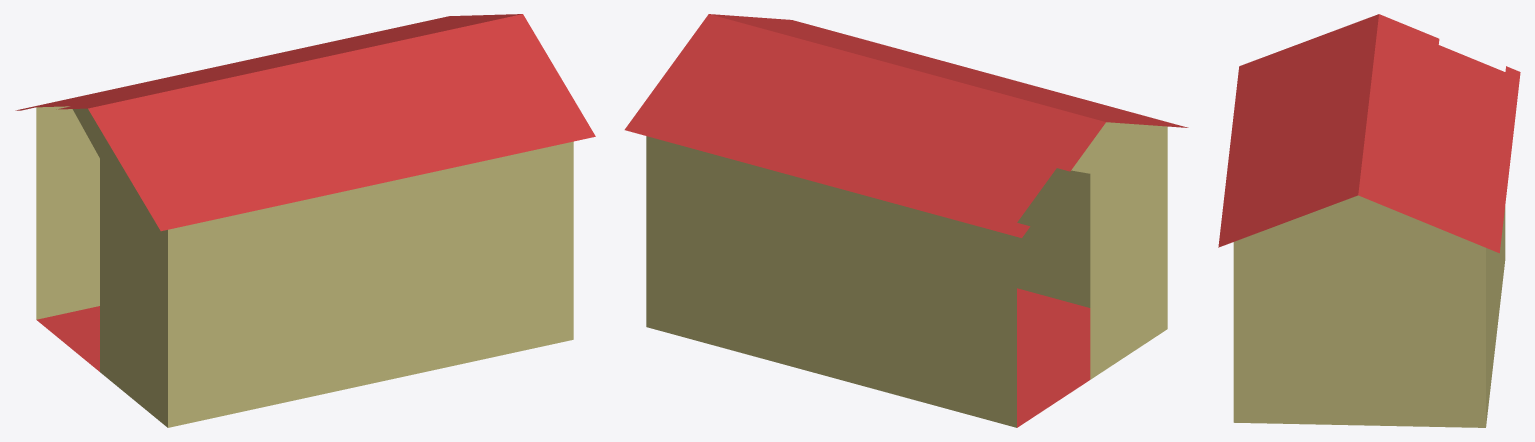
3 renders of one model, left to right at view 1: azimuth 30°, elevation 25°; view 2: azimuth 150°, elevation 25°; view 3: azimuth 270°, elevation 25°, orthographic. The views are drawn at different scales.
Size of the model in its own units: 15.29 by 10.43 by 8.99.
